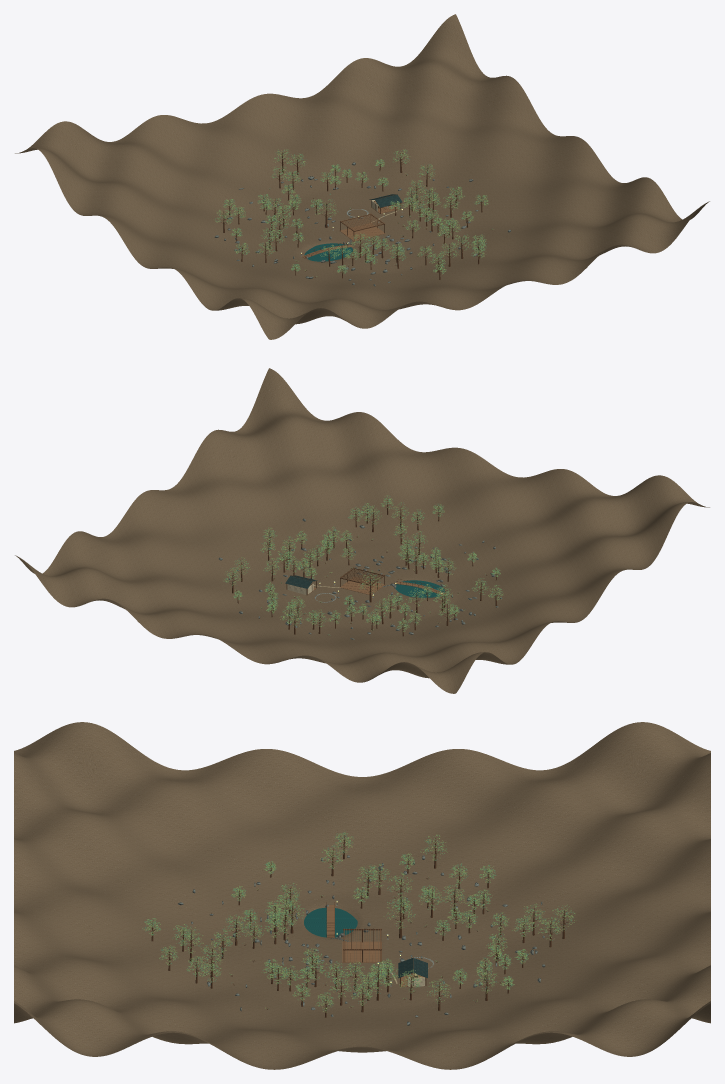
The model's file is garden-low.glb.
3 renders of one model, top to bottom at view 1: azimuth 30°, elevation 25°; view 2: azimuth 150°, elevation 25°; view 3: azimuth 270°, elevation 25°, orthographic. The views are drawn at different scales.
Visible parts, largest first — view 1: Garden_Forest_Floor, Garden_Weathered_Cedar, Garden_Foliage_2, Garden_Foliage_3, Garden_Foliage_0, Garden_Foliage_1, Garden_Granite, Garden_Oiled_Timber, Garden_Pond_Water; view 2: Garden_Forest_Floor, Garden_Weathered_Cedar, Garden_Foliage_2, Garden_Foliage_0, Garden_Foliage_1, Garden_Foliage_3, Garden_Granite, Garden_Oiled_Timber, Garden_Pond_Water; view 3: Garden_Forest_Floor, Garden_Weathered_Cedar, Garden_Foliage_1, Garden_Foliage_2, Garden_Foliage_0, Garden_Foliage_3, Garden_Granite, Garden_Oiled_Timber, Garden_Pond_Water.
Part boxes in pixels (x1,y1,x2,y2): Garden_Forest_Floor: (15,14,709,339); Garden_Weathered_Cedar: (221,152,491,279); Garden_Foliage_2: (216,149,488,276); Garden_Foliage_3: (215,149,492,273); Garden_Foliage_0: (215,150,488,273); Garden_Foliage_1: (215,149,492,272); Garden_Granite: (214,162,510,286); Garden_Oiled_Timber: (302,201,399,258); Garden_Pond_Water: (304,243,352,261); Garden_Forest_Floor: (15,368,709,693); Garden_Weathered_Cedar: (228,498,498,636); Garden_Foliage_2: (226,498,501,631); Garden_Foliage_0: (223,498,502,635); Garden_Foliage_1: (223,495,503,634); Garden_Foliage_3: (225,496,502,635); Garden_Granite: (218,518,502,639); Garden_Oiled_Timber: (308,577,445,595); Garden_Pond_Water: (395,580,444,597); Garden_Forest_Floor: (14,722,710,1069); Garden_Weathered_Cedar: (149,835,568,1017); Garden_Foliage_1: (145,833,574,1010); Garden_Foliage_2: (142,832,574,1012); Garden_Foliage_0: (143,832,576,1010); Garden_Foliage_3: (142,831,573,1010); Garden_Granite: (178,855,545,1025); Garden_Oiled_Timber: (326,905,424,986); Garden_Pond_Water: (304,908,357,937).
Size of the model in its own units: 220 by 35.63 by 220.
Materials: 15 (9 with a texture image).
